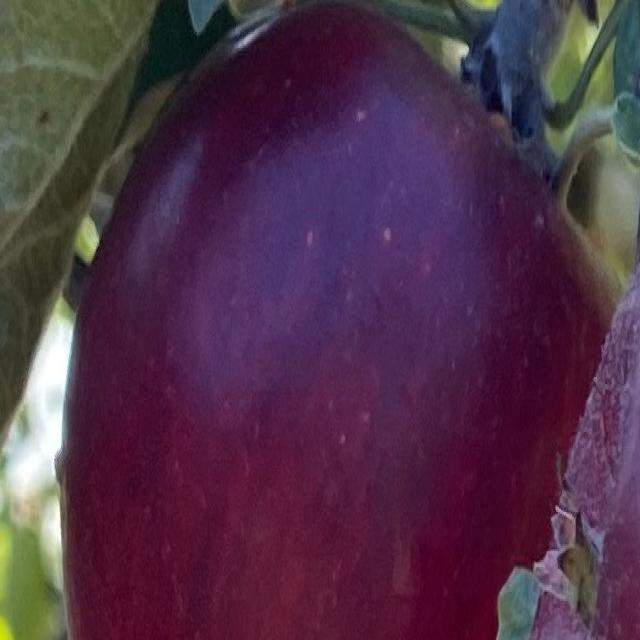Apples: (60, 12, 621, 638), (534, 226, 639, 638)
